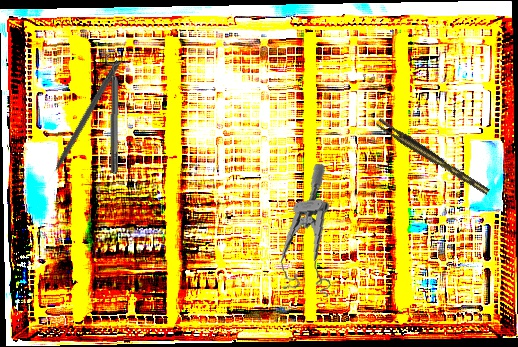Fixation Ring: (103, 55, 125, 174)
Hook Surgical: (43, 58, 122, 186)
Speculum: (268, 163, 341, 302)
Tissue Forceps: (375, 114, 490, 201)
